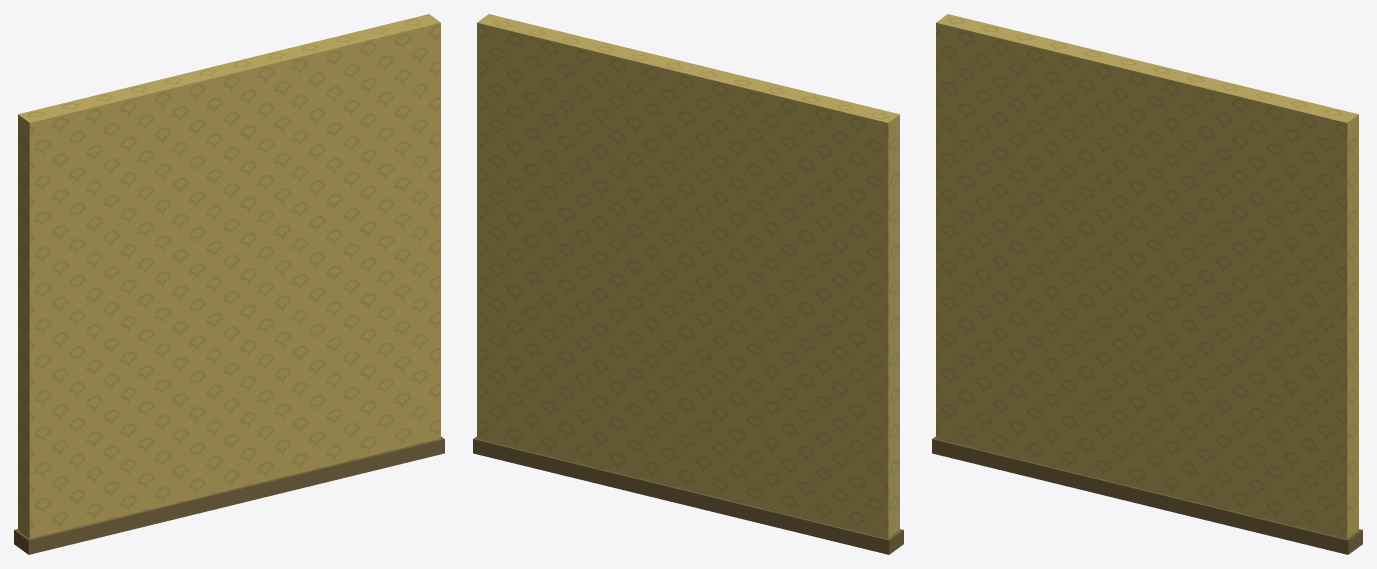
Rendered from BackRoomsWall01Straigh02.FBX.
3 views of the same model, side by side, from view 1: azimuth 30°, elevation 25°; view 2: azimuth 150°, elevation 25°; view 3: azimuth 330°, elevation 25° (orthographic).
Parts seen in each view (by area): view 1: BackRoomsWall01Straigh02; view 2: BackRoomsWall01Straigh02; view 3: BackRoomsWall01Straigh02.
Boxes of the visible parts, left/top/right/bottom form: BackRoomsWall01Straigh02: left=14, top=14, right=444, bottom=554; BackRoomsWall01Straigh02: left=473, top=14, right=903, bottom=554; BackRoomsWall01Straigh02: left=932, top=14, right=1362, bottom=554.
Bounding box in the file's own units: 304 × 18.54 × 300.
